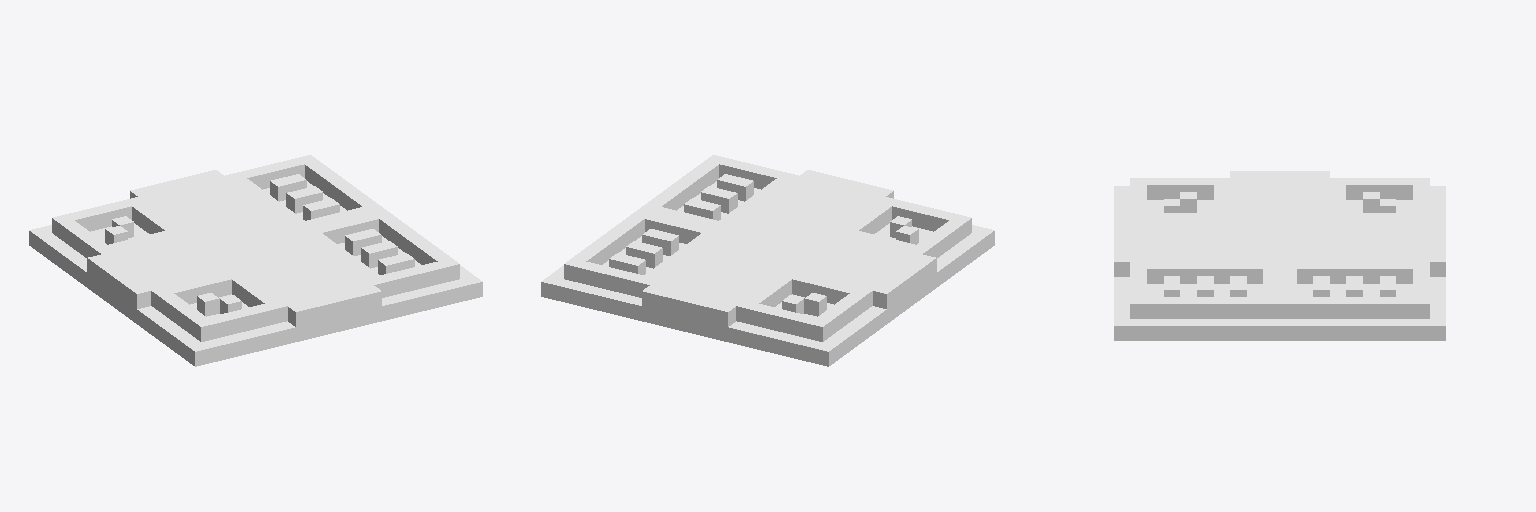
File: threewayrice.obj
3 renders of one model, left to right at view 1: azimuth 30°, elevation 25°; view 2: azimuth 150°, elevation 25°; view 3: azimuth 270°, elevation 25°, orthographic.
Bounding box in the file's own units: 20 × 2 × 20.